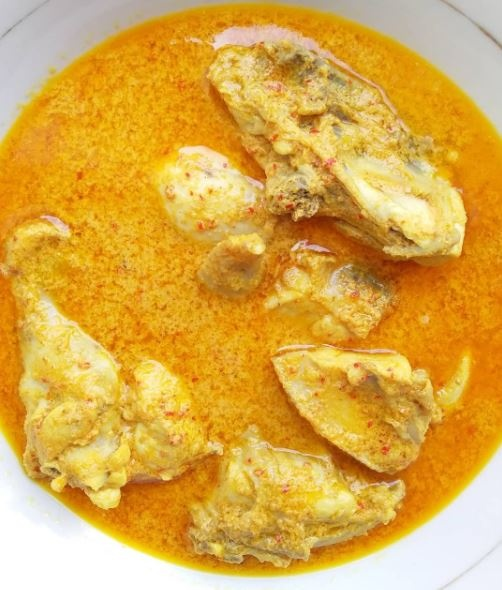gulai_ayam: (3, 14, 498, 555)
